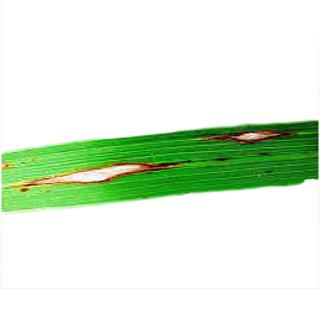Blast: (23, 159, 184, 187), (200, 124, 296, 152)
